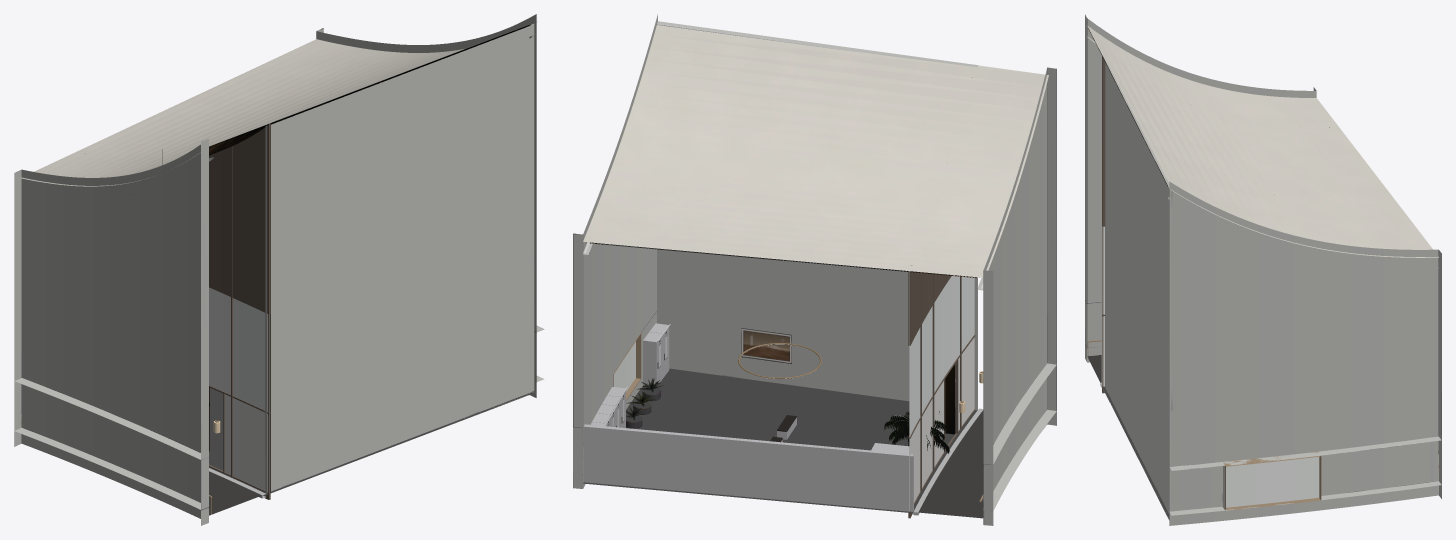
3 renders of one model, left to right at view 1: azimuth 30°, elevation 25°; view 2: azimuth 150°, elevation 25°; view 3: azimuth 270°, elevation 25°, orthographic. The views are drawn at different scales.
Visible parts, largest first — view 1: c0720, c0720 leaves; view 2: c0720, c0720 leaves; view 3: c0720.
Boxes of the visible parts, bbox=[...] form: c0720: bbox=[14, 14, 544, 525]; c0720 leaves: bbox=[209, 24, 530, 451]; c0720: bbox=[573, 14, 1056, 525]; c0720 leaves: bbox=[590, 242, 983, 453]; c0720: bbox=[1085, 14, 1441, 525].
Bounding box in the file's own units: 23.64 × 19.25 × 18.07.
15 materials, 1 textured.
